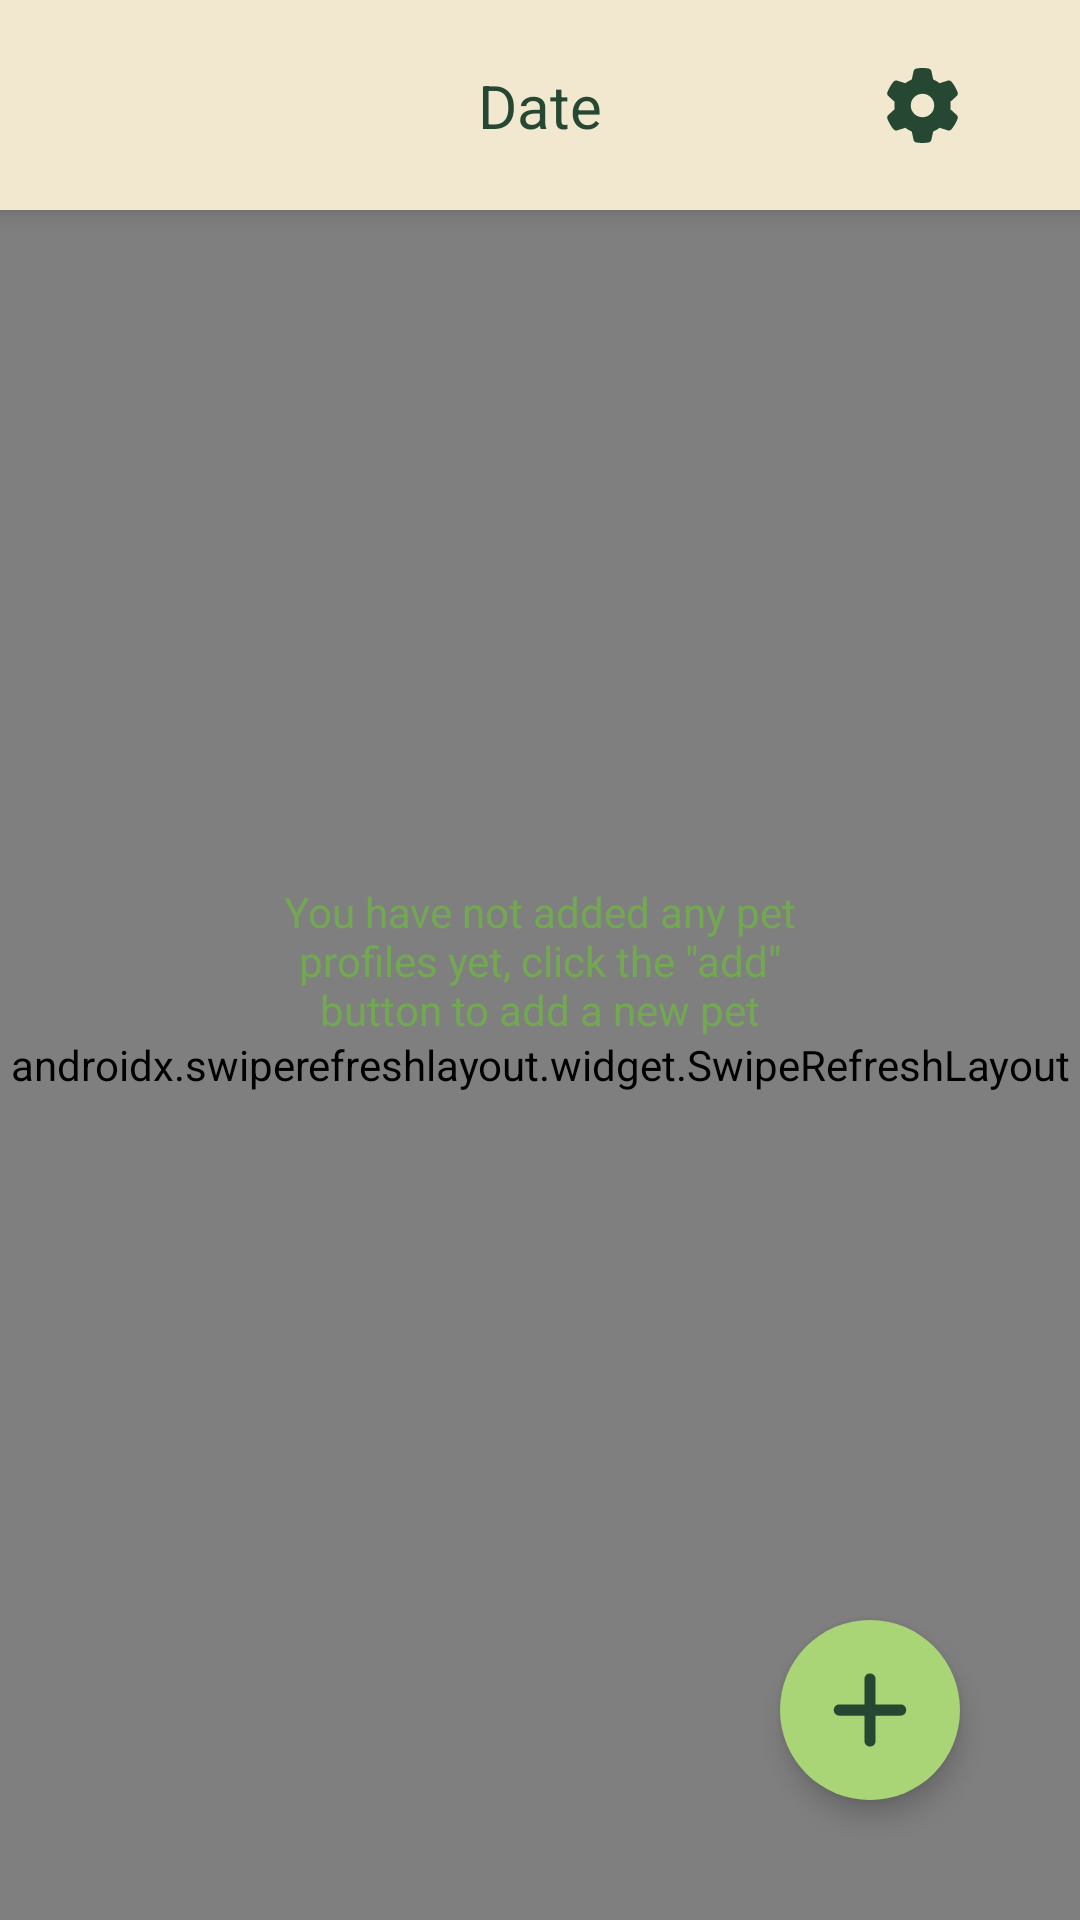

Point at icon controls on the screen. Image size 1080 x 1920, points as (x,y).
gear: (922,105)
plus: (870,1710)
